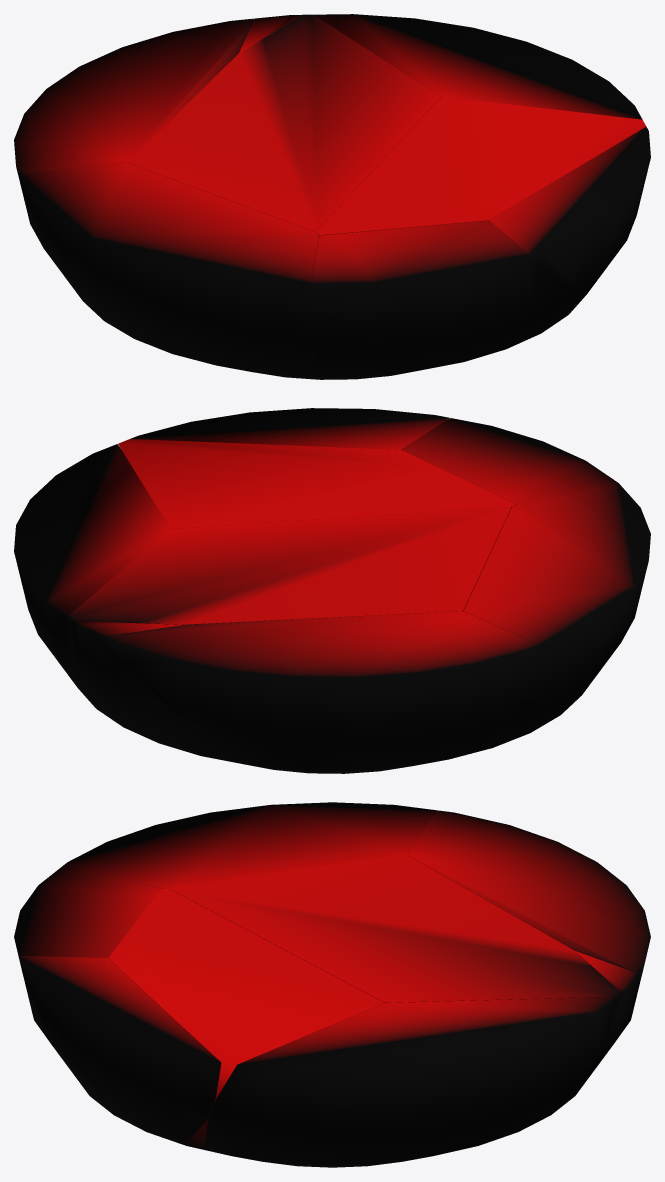
Rendered from SM_BrokenFloor.fbx.
3 renders of one model, top to bottom at view 1: azimuth 30°, elevation 25°; view 2: azimuth 150°, elevation 25°; view 3: azimuth 270°, elevation 25°, orthographic.
Parts seen in each view (by area): view 1: SM_BrokenGround_cell.006, SM_BrokenGround_cell.003, SM_BrokenGround_cell.005, SM_BrokenGround_cell.004, SM_BrokenGround_cell.001, SM_BrokenGround_cell.007, SM_BrokenGround_cell, SM_BrokenGround_cell.002; view 2: SM_BrokenGround_cell.001, SM_BrokenGround_cell.003, SM_BrokenGround_cell.006, SM_BrokenGround_cell.004, SM_BrokenGround_cell.007, SM_BrokenGround_cell.005, SM_BrokenGround_cell.002, SM_BrokenGround_cell; view 3: SM_BrokenGround_cell.007, SM_BrokenGround_cell.003, SM_BrokenGround_cell.004, SM_BrokenGround_cell, SM_BrokenGround_cell.006, SM_BrokenGround_cell.001, SM_BrokenGround_cell.005, SM_BrokenGround_cell.002.
Part boxes in pixels (x1,y1,x2,y2): SM_BrokenGround_cell.006: (20,162,319,379); SM_BrokenGround_cell.003: (127,14,441,231); SM_BrokenGround_cell.005: (311,220,585,379); SM_BrokenGround_cell.004: (316,96,646,235); SM_BrokenGround_cell.001: (14,18,253,224); SM_BrokenGround_cell.007: (313,14,642,119); SM_BrokenGround_cell: (489,126,650,294); SM_BrokenGround_cell.002: (238,15,301,53); SM_BrokenGround_cell.001: (105,611,538,771); SM_BrokenGround_cell.003: (68,507,511,624); SM_BrokenGround_cell.006: (463,483,650,751); SM_BrokenGround_cell.004: (118,439,516,528); SM_BrokenGround_cell.007: (14,444,170,713); SM_BrokenGround_cell.005: (402,418,618,504); SM_BrokenGround_cell.002: (70,621,434,773); SM_BrokenGround_cell: (130,408,449,449); SM_BrokenGround_cell.007: (204,996,616,1167); SM_BrokenGround_cell.003: (171,855,620,1002); SM_BrokenGround_cell.004: (108,889,384,1149); SM_BrokenGround_cell: (18,956,220,1144); SM_BrokenGround_cell.006: (68,802,437,889); SM_BrokenGround_cell.001: (407,810,650,984); SM_BrokenGround_cell.005: (14,862,161,1130); SM_BrokenGround_cell.002: (559,951,639,1108).
Bounding box in the file's own units: 300 × 80 × 300.
